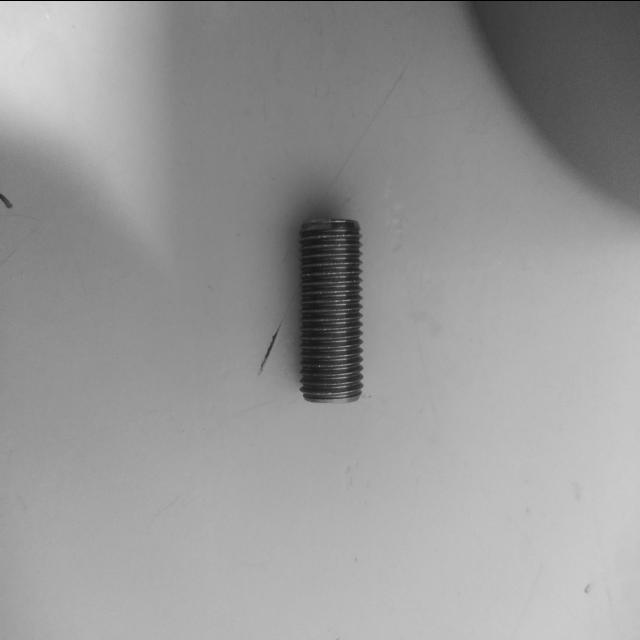Normal: (298, 217, 366, 405)
